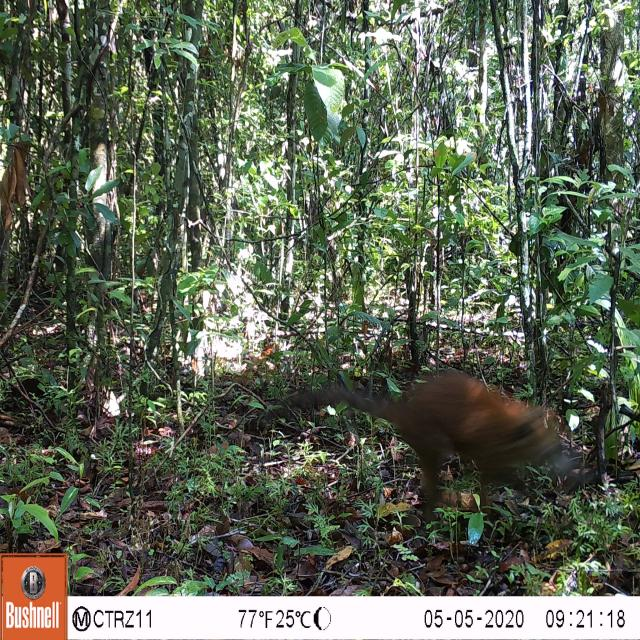South American Coati: (277, 360, 581, 526)
